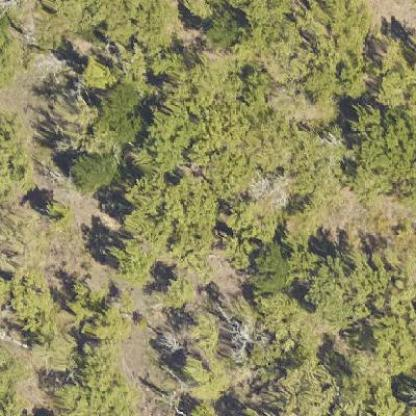tree-top: (128, 179, 224, 259), (349, 103, 415, 201), (49, 351, 143, 414), (0, 263, 58, 341), (272, 359, 337, 415), (92, 83, 144, 144), (64, 148, 119, 200), (75, 304, 138, 348), (0, 114, 36, 190), (367, 318, 415, 375), (228, 194, 281, 240), (249, 238, 288, 294), (109, 240, 157, 282), (202, 12, 242, 49), (304, 70, 339, 104)
